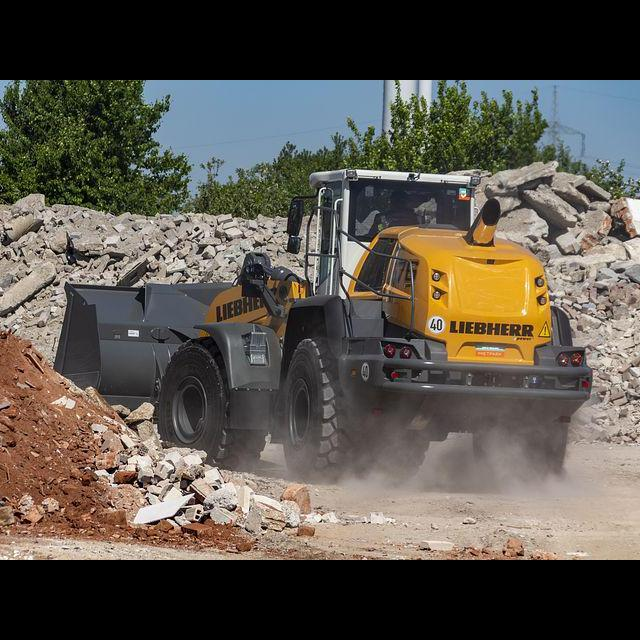Hardhat: (390, 191, 409, 202)
Person: (358, 191, 424, 241)
Safety Vest: (377, 211, 423, 233)
wheel loader: (52, 164, 598, 485)
